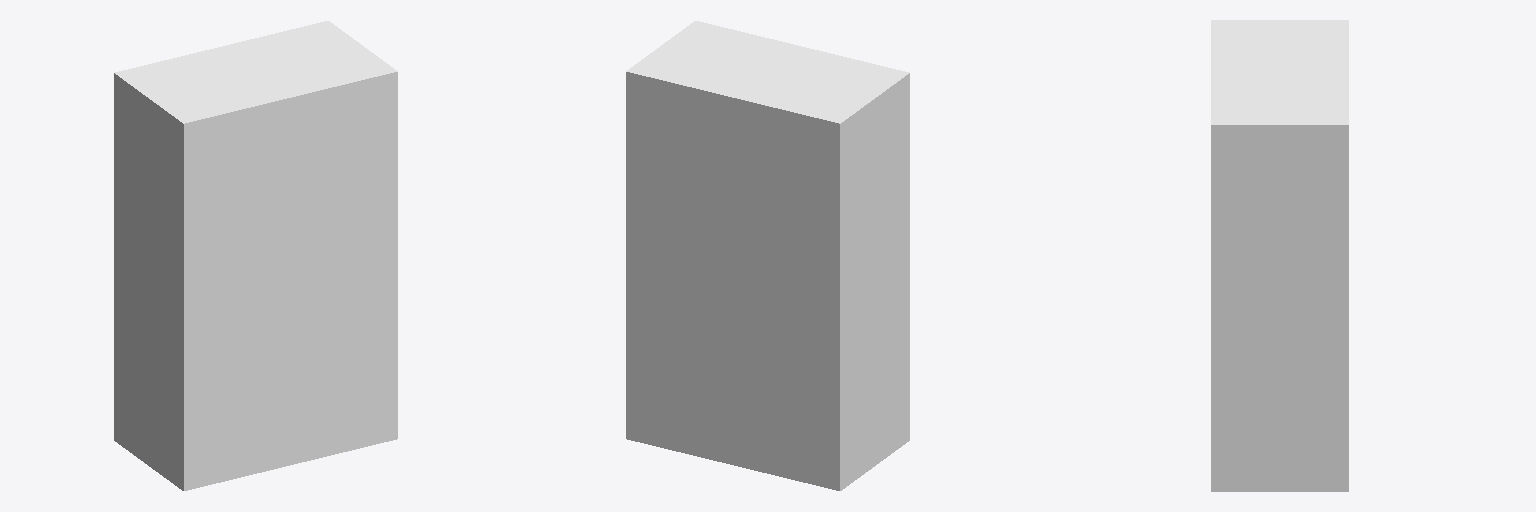
The robot description file, URDF, robot "box.urdf":
<?xml version="1.0" ?>
<robot name="box.urdf">
  <link name="baseLink">
    <contact>
      <lateral_friction value="1.0"/>
      <spinning_friction value="0.001"/>
      <rolling_friction value="0.001"/>
      <contact_cfm value="0.0"/>
      <contact_erp value="1.0"/>
    </contact>
    <inertial>
      <origin rpy="0 0 0" xyz="0.0 0 0.0"/>
       <mass value=".001"/>
       <inertia ixx="1" ixy="0" ixz="0" iyy="1" iyz="0" izz="1"/>
    </inertial>
    <visual>
      <origin rpy="0 0 0" xyz="0 0 0"/>
      <geometry>
        <box size="0.080 0.045 0.131"/>
      </geometry>
       <material name="white">
        <color rgba="1 1 1 1"/>
      </material>
    </visual>
    <collision>
      <origin rpy="0 0 0" xyz="0 0 0"/>
      <geometry>
	<box size="0.080 0.045 0.131"/>
      </geometry>
    </collision>
  </link>
</robot>

--- Facts derived from the render (not from the file) ---
3 views of the same robot in one strip: view 1: azimuth 30°, elevation 25°; view 2: azimuth 150°, elevation 25°; view 3: azimuth 270°, elevation 25° (orthographic).
Robot: box.urdf — 1 links, 0 joints (none); root link baseLink; default pose: all joints at 0.
Visible links, largest first — view 1: baseLink; view 2: baseLink; view 3: baseLink.
Boxes of the visible links, x1,y1,x2,y2 form: baseLink: [114, 21, 397, 490]; baseLink: [626, 21, 909, 490]; baseLink: [1211, 20, 1348, 491].
Bounding box of the posed robot: 0.08 × 0.045 × 0.131 m (x, y, z).
Geometry: primitives only (box / cylinder / sphere), no mesh files.